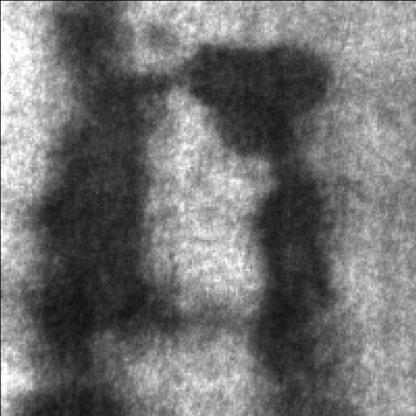patches: (23, 4, 171, 416), (191, 43, 351, 416)
